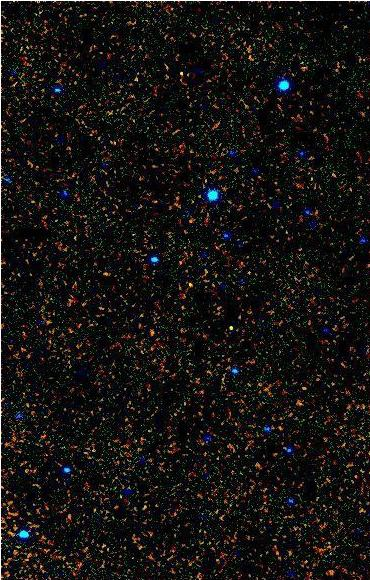star: (217, 313, 247, 343)
